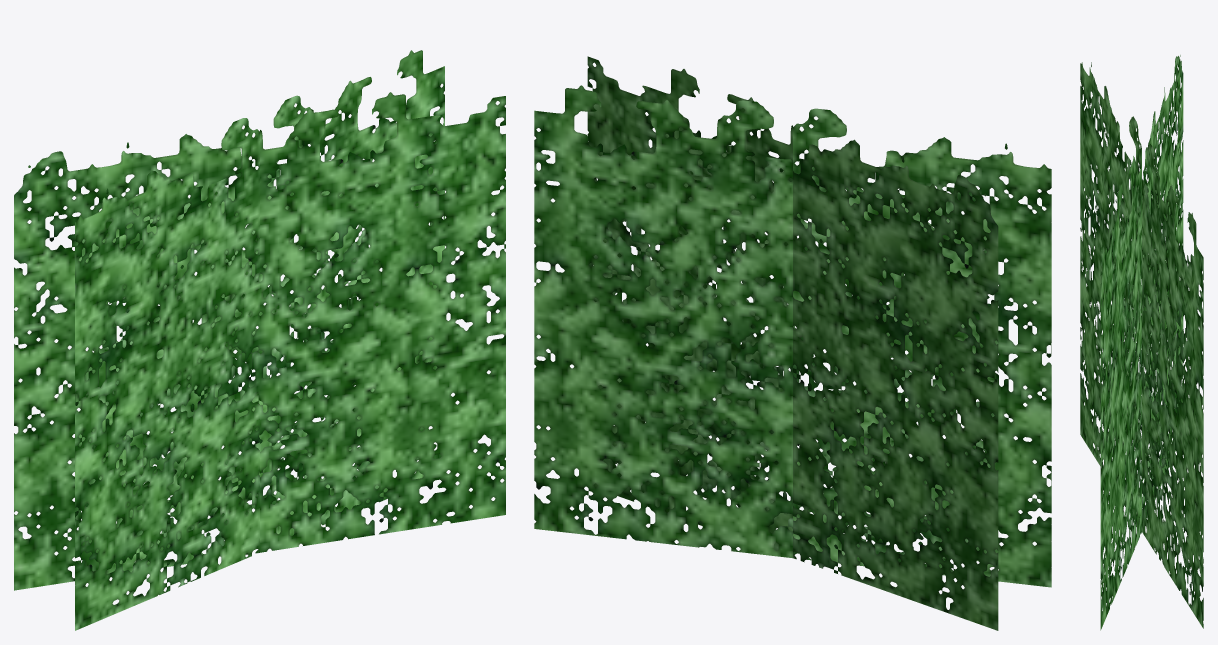
File: bush_tall_overgrown_spring.fbx
3 renders of one model, left to right at view 1: azimuth 30°, elevation 25°; view 2: azimuth 150°, elevation 25°; view 3: azimuth 270°, elevation 25°, orthographic. The views are drawn at different scales.
Visible parts, largest first — view 1: bush_tall_overgrown_spring; view 2: bush_tall_overgrown_spring; view 3: bush_tall_overgrown_spring.
Part boxes in pixels (box(x1,y1,x2,y2)): bush_tall_overgrown_spring: box(14, 50, 505, 630); bush_tall_overgrown_spring: box(534, 56, 1051, 630); bush_tall_overgrown_spring: box(1080, 55, 1203, 630).
Bounding box in the file's own units: 209 × 206 × 54.93.
1 material, 1 textured.
